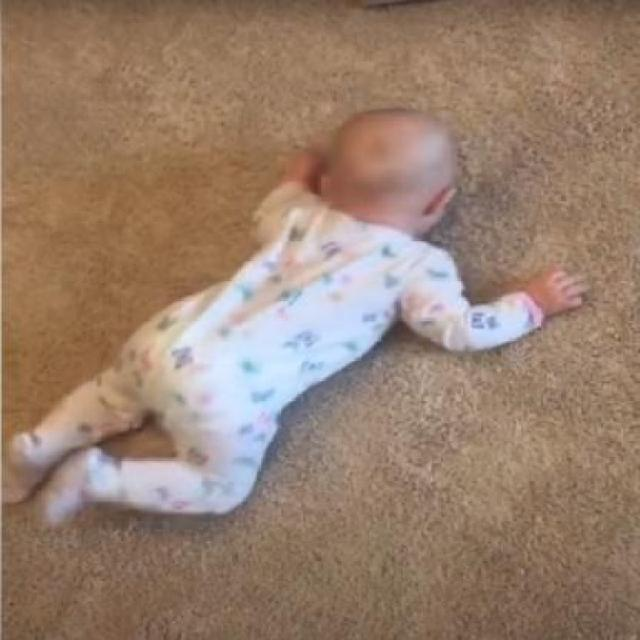baby: (0, 104, 589, 518)
